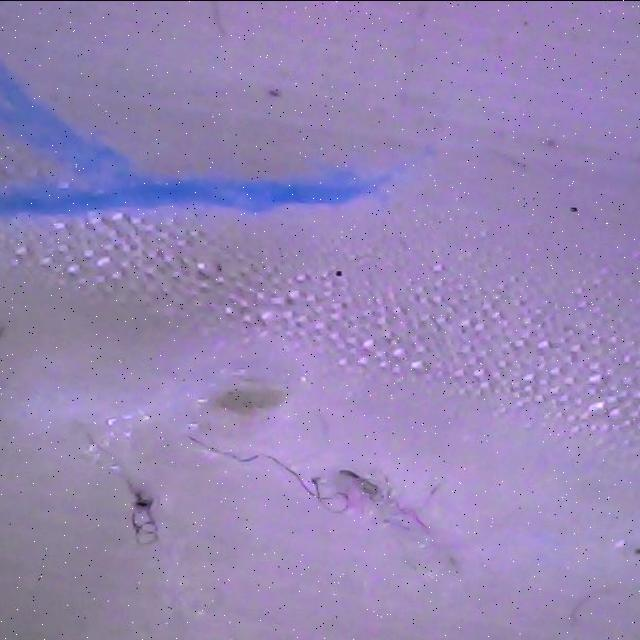Fibre: (186, 427, 468, 578), (74, 428, 164, 548)
